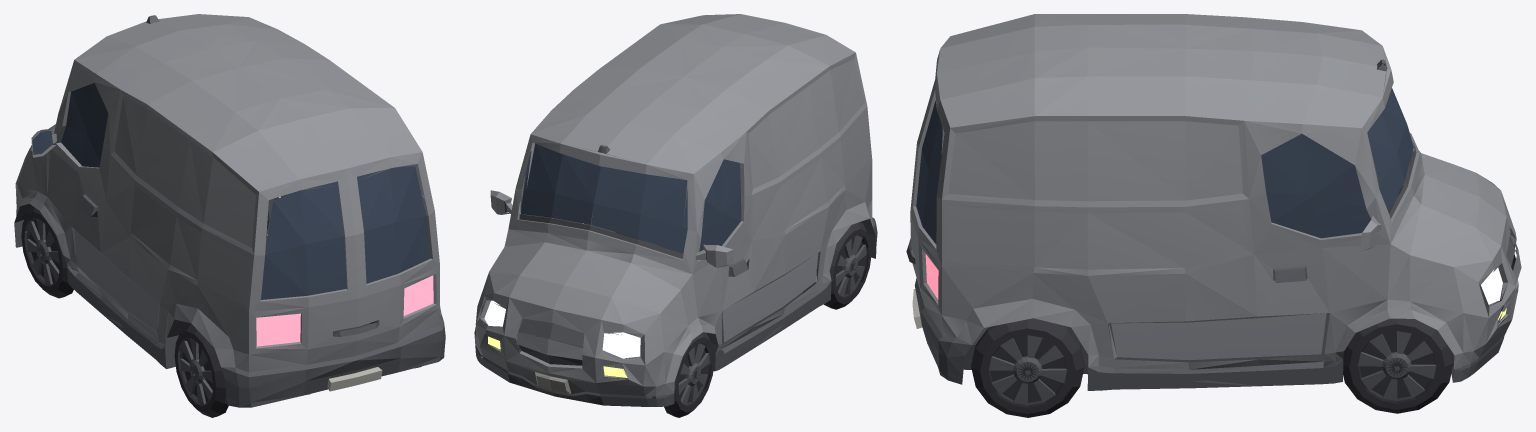
The model's file is car_van_grey.glb.
3 views of the same model, side by side, from view 1: azimuth 30°, elevation 25°; view 2: azimuth 150°, elevation 25°; view 3: azimuth 270°, elevation 25° (orthographic). The views are drawn at different scales.
Parts seen in each view (by area): view 1: car_van_grey; view 2: car_van_grey; view 3: car_van_grey.
Boxes of the visible parts, bbox=[...] form: car_van_grey: bbox=[14, 14, 445, 417]; car_van_grey: bbox=[474, 14, 877, 417]; car_van_grey: bbox=[906, 14, 1521, 417].
Size of the model in its own units: 2.8 by 2.8 by 5.
